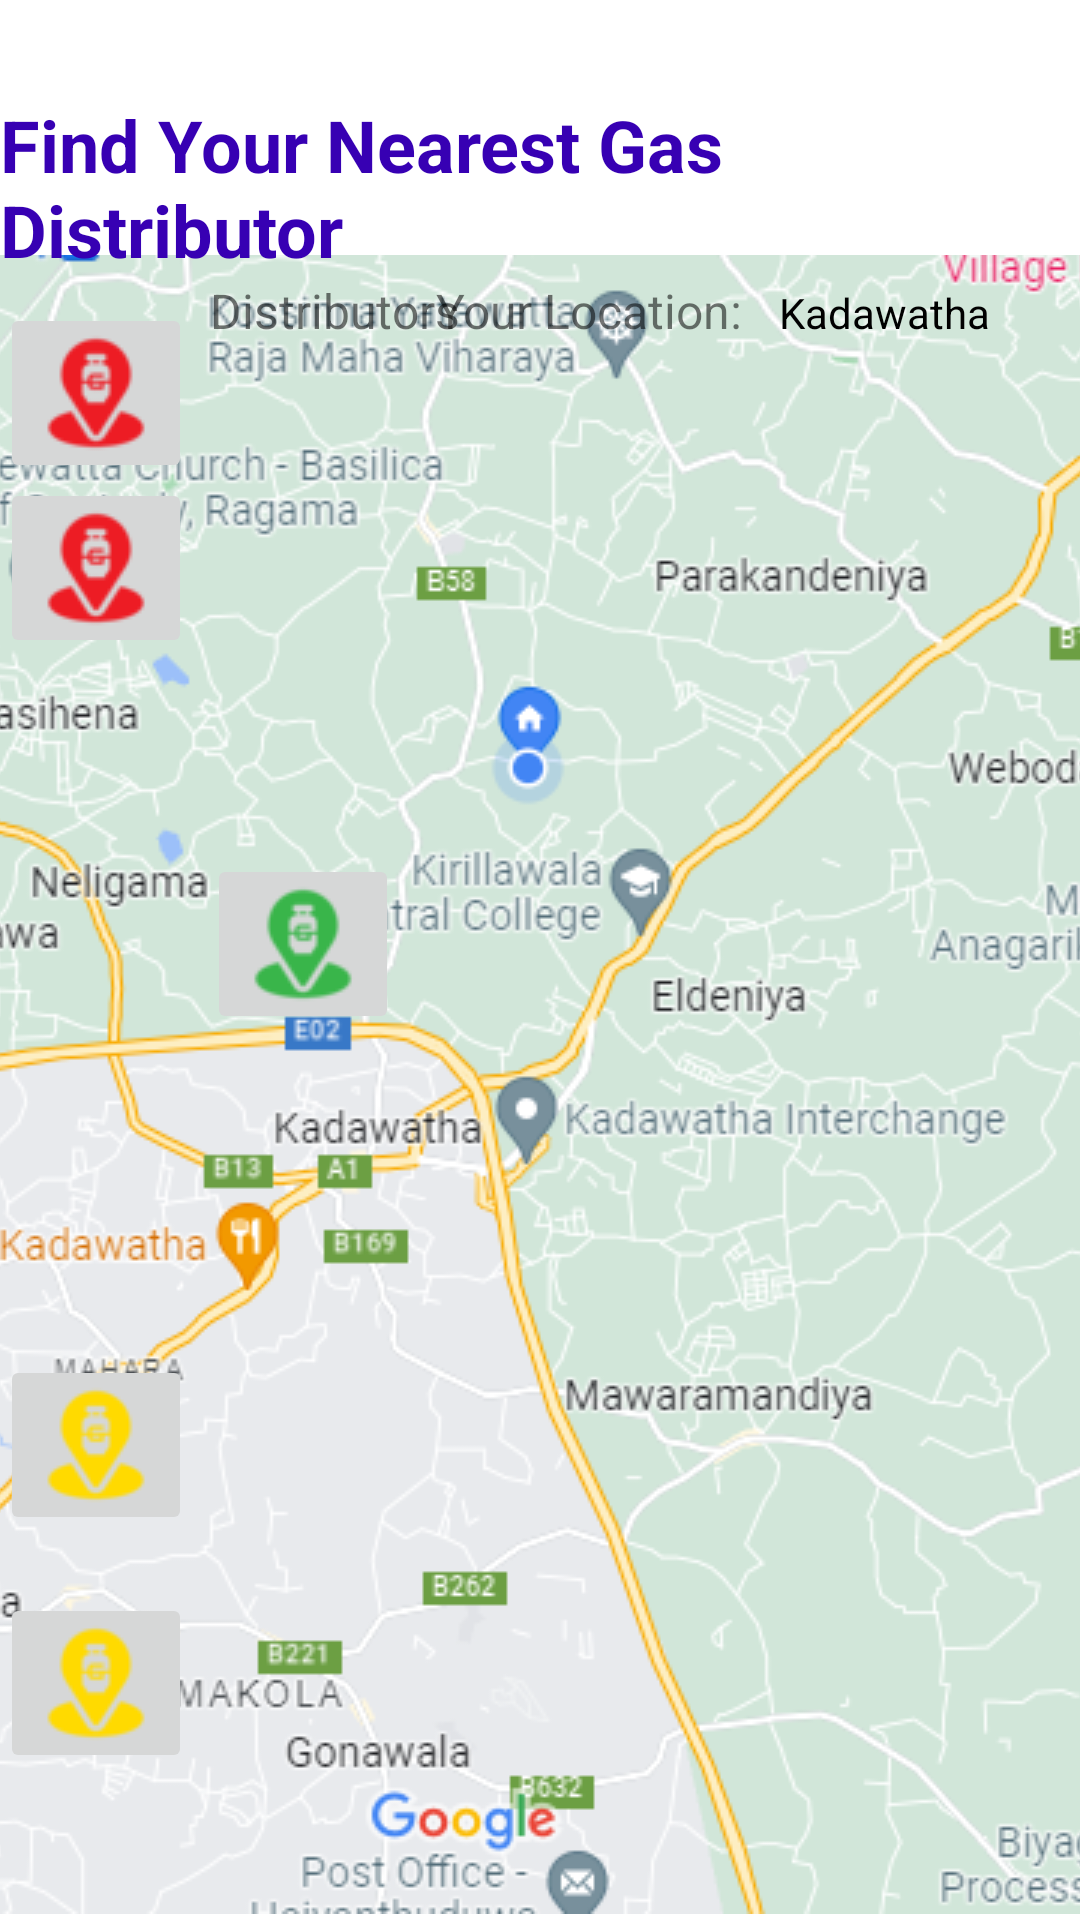

Icon click points for this 1080px x 1920px phone screenshot, format (x,y):
gre: (303,944)
yel: (96,1445), (96,1683)
